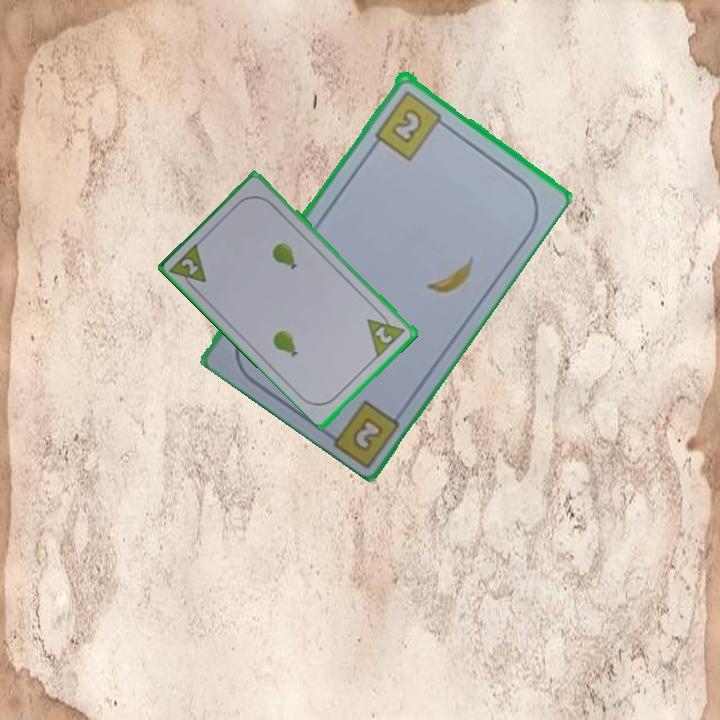2b: (371, 86, 451, 163), (351, 416, 383, 451)
2p: (167, 239, 210, 295), (372, 323, 396, 346)
